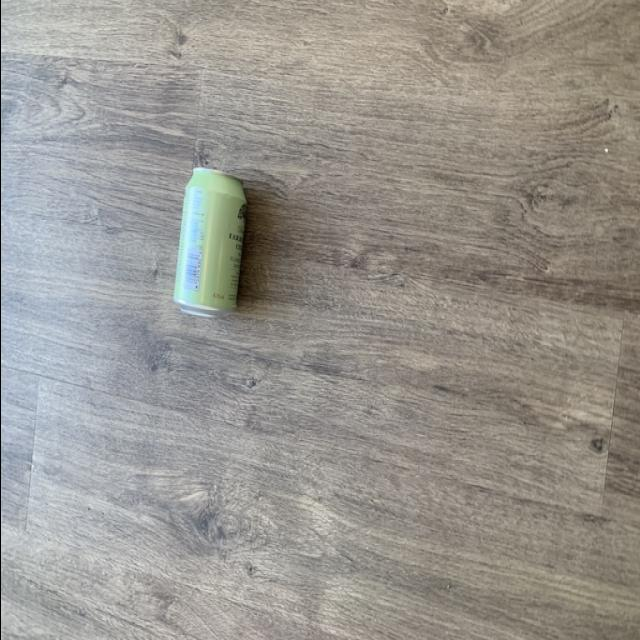litter: (168, 145, 248, 327)
